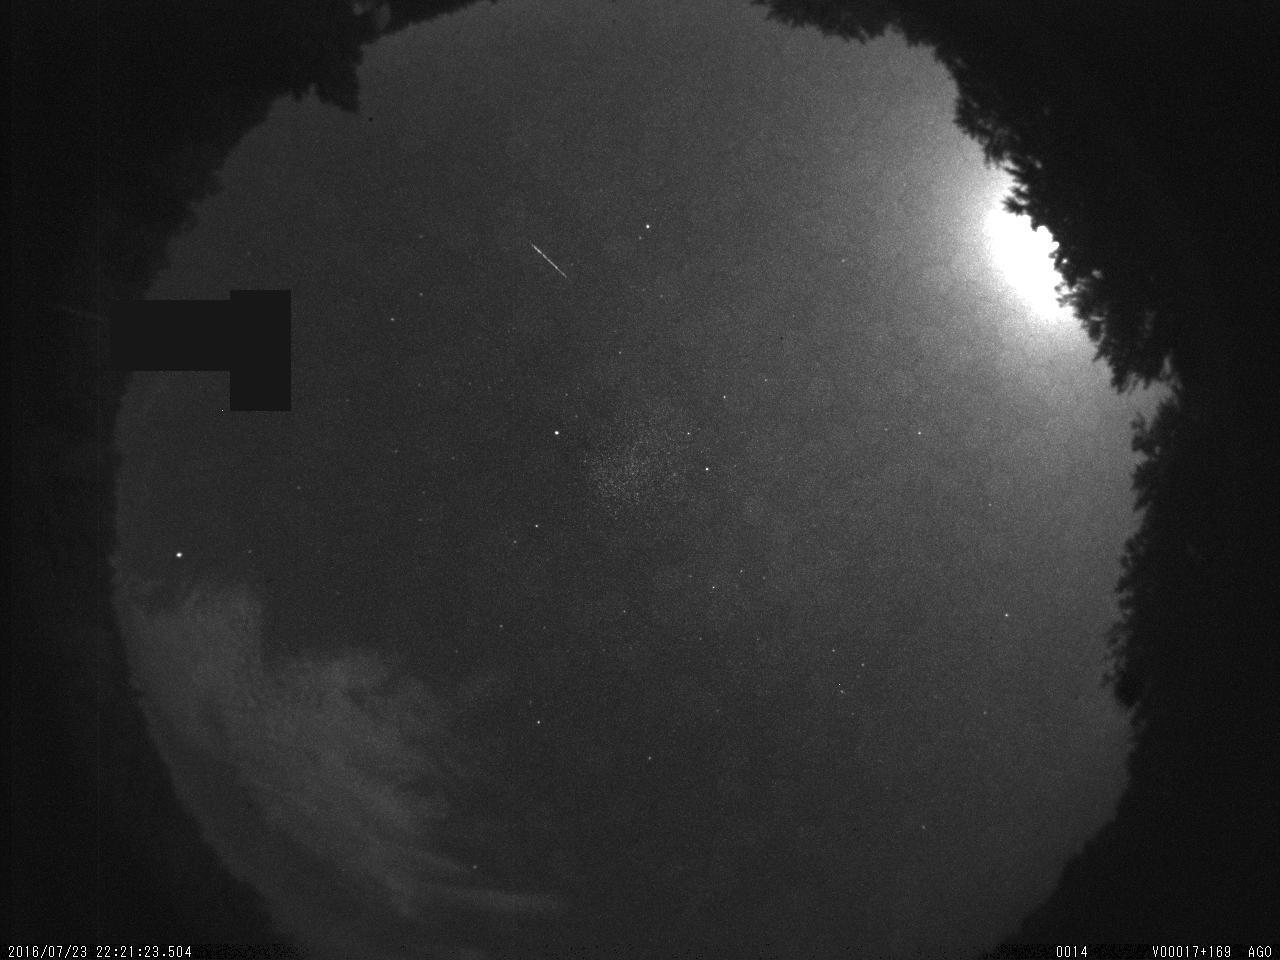meteor: (523, 235, 577, 287)
